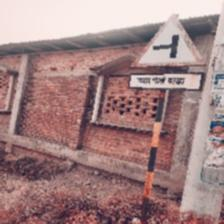Animal: (128, 16, 202, 95)
